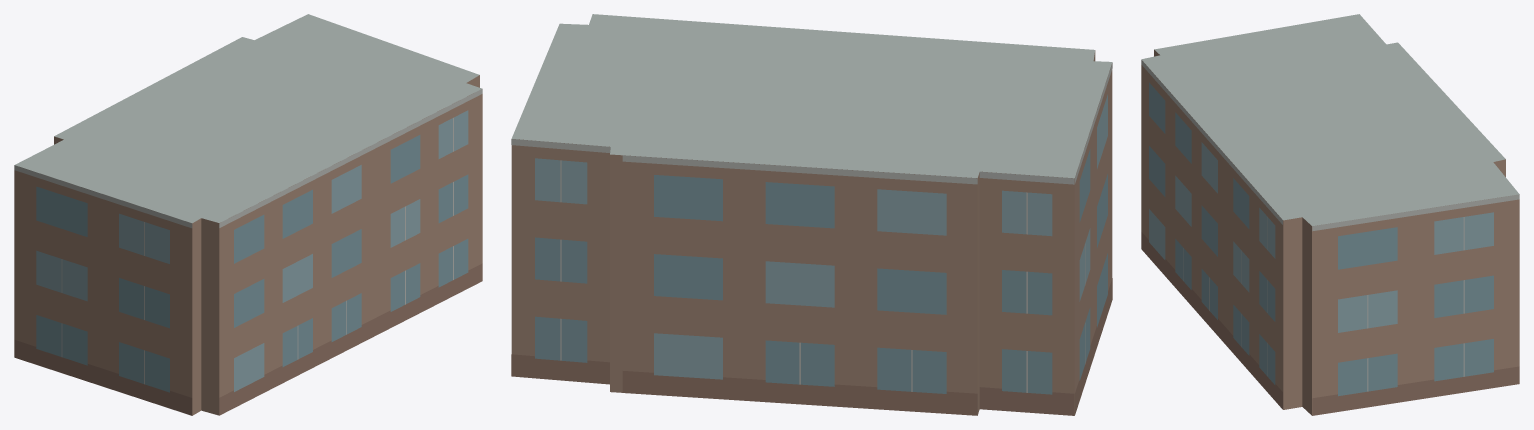
File: survey-upis-32843154.glb
The picture shows the model from 3 angles, left to right: view 1: azimuth 30°, elevation 25°; view 2: azimuth 150°, elevation 25°; view 3: azimuth 270°, elevation 25°; orthographic projection. The views are drawn at different scales.
Parts seen in each view (by area): view 1: survey-upis-32843154.tmp; view 2: survey-upis-32843154.tmp; view 3: survey-upis-32843154.tmp.
Boxes of the visible parts, x1,y1,x2,y2 form: survey-upis-32843154.tmp: (14,14,482,415); survey-upis-32843154.tmp: (511,14,1112,415); survey-upis-32843154.tmp: (1141,14,1519,415).
Size of the model in its own units: 21.96 by 9.15 by 16.55.
